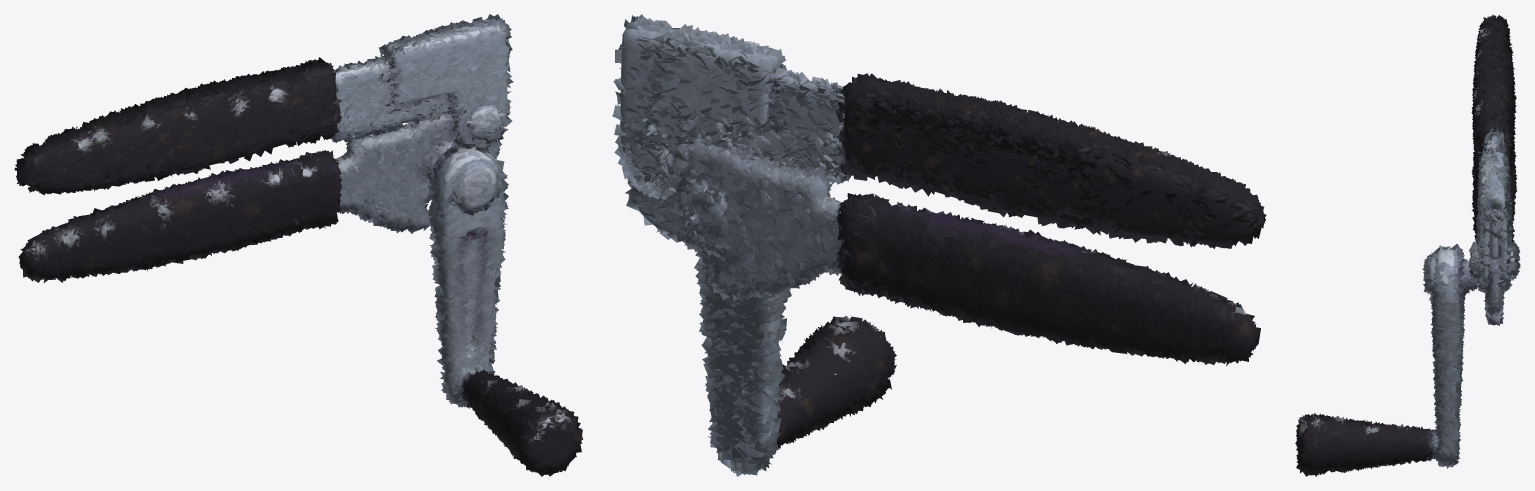
The model's file is SM_Opener_withPlanes.fbx.
3 renders of one model, left to right at view 1: azimuth 30°, elevation 25°; view 2: azimuth 150°, elevation 25°; view 3: azimuth 270°, elevation 25°, orthographic. The views are drawn at different scales.
Visible parts, largest first — view 1: Planes_Top, Planes_Bottom, Plannes_Handle, Opener_Top, Opener_Handle, Opener_Bottom; view 2: Planes_Bottom, Planes_Top, Opener_Top, Plannes_Handle, Opener_Bottom, Opener_Handle; view 3: Plannes_Handle, Planes_Top, Opener_Top, Planes_Bottom, Opener_Handle.
Part boxes in pixels (left/top/right/bottom): Planes_Top: left=14, top=14, right=513, bottom=195; Planes_Bottom: left=18, top=112, right=501, bottom=282; Plannes_Handle: left=426, top=143, right=583, bottom=476; Opener_Top: left=21, top=23, right=507, bottom=188; Opener_Handle: left=434, top=148, right=576, bottom=467; Opener_Bottom: left=29, top=119, right=496, bottom=275; Planes_Bottom: left=625, top=141, right=1260, bottom=366; Planes_Top: left=612, top=14, right=1266, bottom=248; Opener_Top: left=620, top=24, right=1256, bottom=242; Plannes_Handle: left=694, top=156, right=896, bottom=476; Opener_Bottom: left=637, top=155, right=1241, bottom=355; Opener_Handle: left=704, top=254, right=884, bottom=464; Plannes_Handle: left=1295, top=243, right=1480, bottom=476; Planes_Top: left=1468, top=14, right=1520, bottom=291; Opener_Top: left=1474, top=25, right=1514, bottom=283; Planes_Bottom: left=1471, top=146, right=1516, bottom=325; Opener_Handle: left=1302, top=249, right=1471, bottom=467.
Bounding box in the file's own units: 1431 × 1023 × 679.
